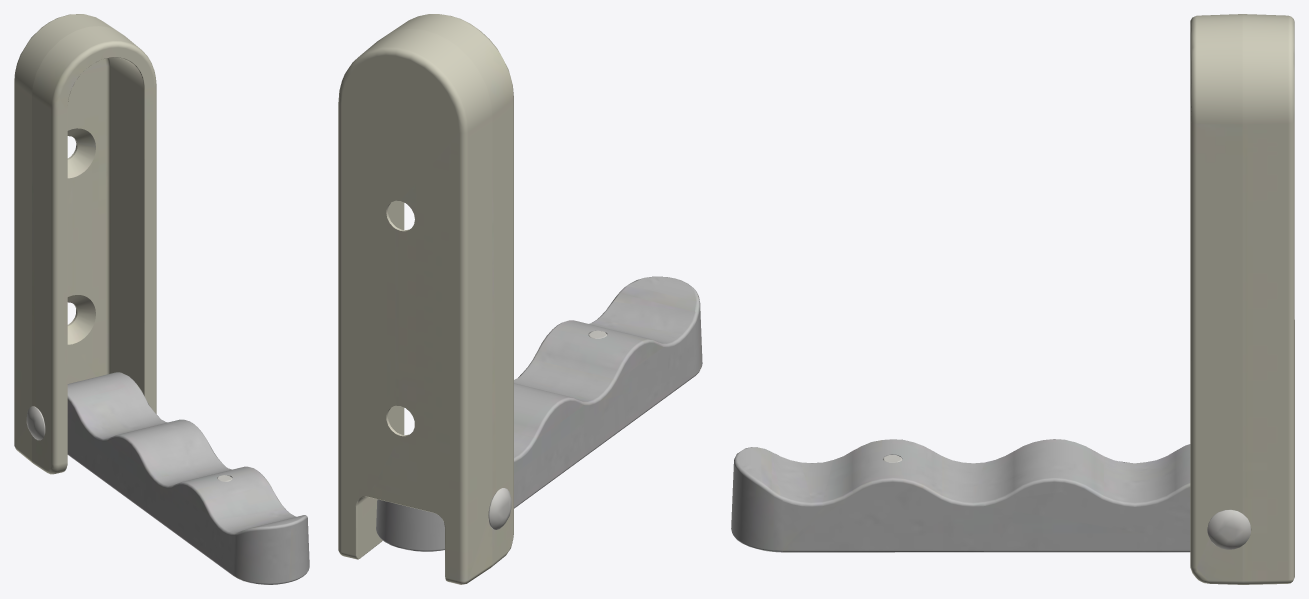
File: Klyket50503598.glb
3 views of the same model, side by side, from view 1: azimuth 30°, elevation 25°; view 2: azimuth 150°, elevation 25°; view 3: azimuth 270°, elevation 25° (orthographic). The views are drawn at different scales.
Visible parts, largest first — view 1: model; view 2: model; view 3: model.
Part boxes in pixels (box(x1,y1,x2,y2)): model: box(14, 14, 309, 584); model: box(338, 14, 702, 584); model: box(731, 14, 1294, 584).
Size of the model in its own units: 0.0255 by 0.0873 by 0.0836.
Materials: 1 (1 with a texture image).
